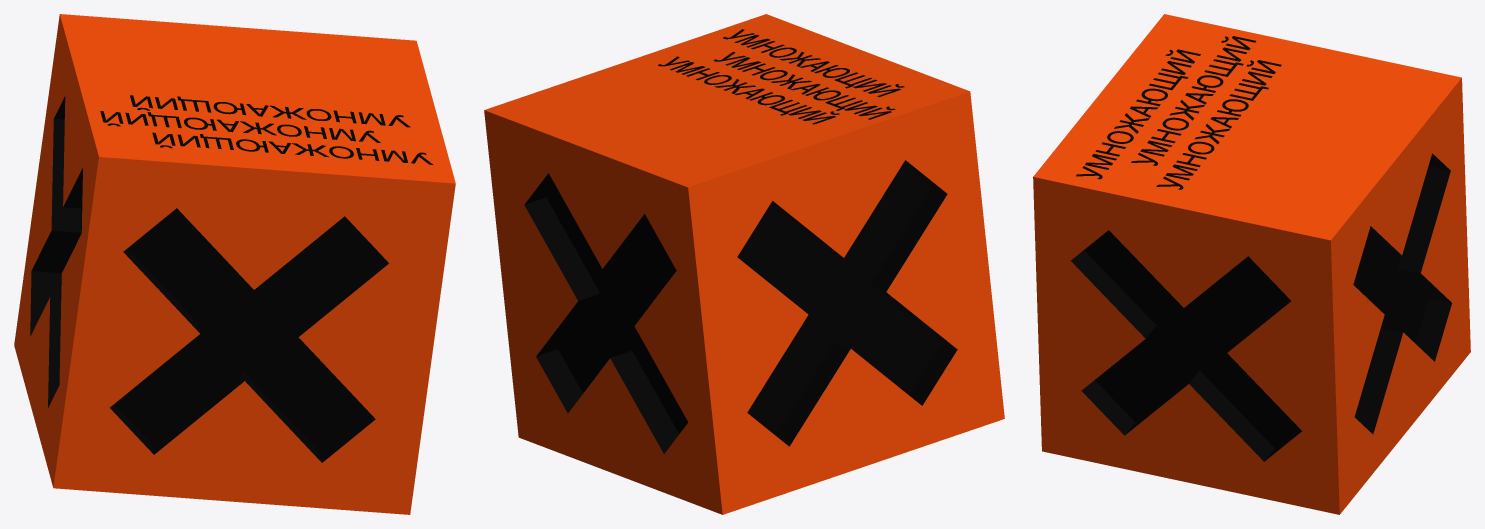
File: оранжевый .glb
3 views of the same model, side by side, from view 1: azimuth 30°, elevation 25°; view 2: azimuth 150°, elevation 25°; view 3: azimuth 270°, elevation 25° (orthographic). The views are drawn at different scales.
Parts seen in each view (by area): view 1: Cube.001; view 2: Cube.001; view 3: Cube.001.
Boxes of the visible parts, x1,y1,x2,y2 form: Cube.001: [14, 14, 455, 514]; Cube.001: [484, 14, 1004, 514]; Cube.001: [1033, 14, 1470, 514].
Bounding box in the file's own units: 2.88 × 2.3 × 2.69.
